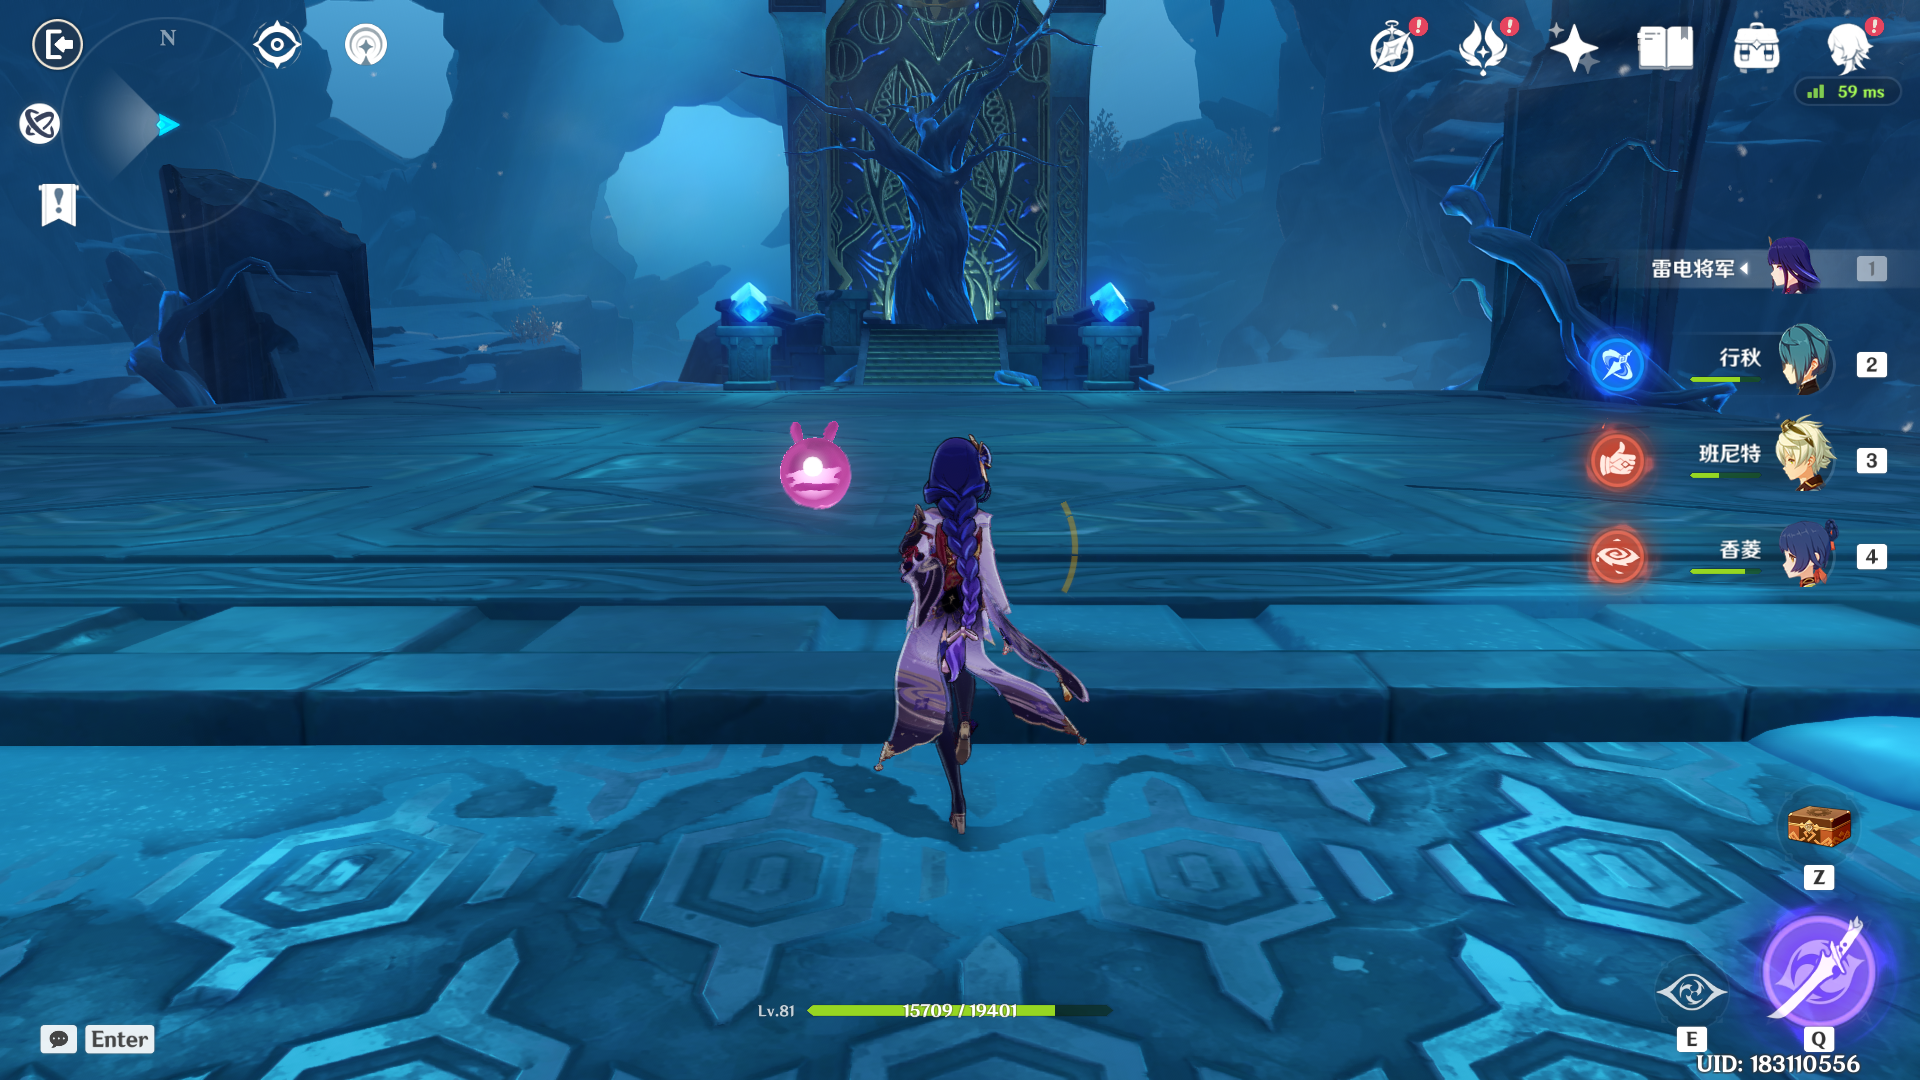character: (843, 413, 1124, 869)
